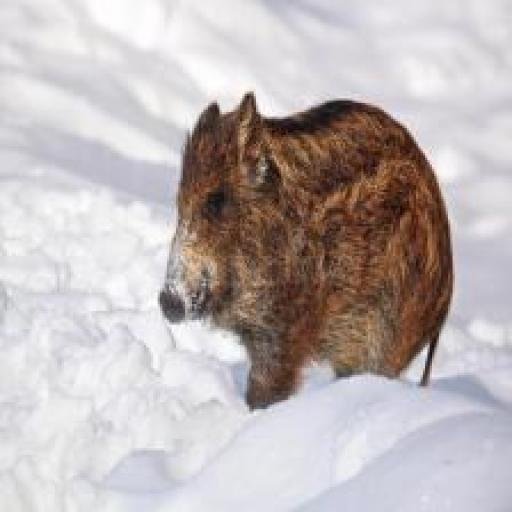Pig: (158, 92, 452, 412)
